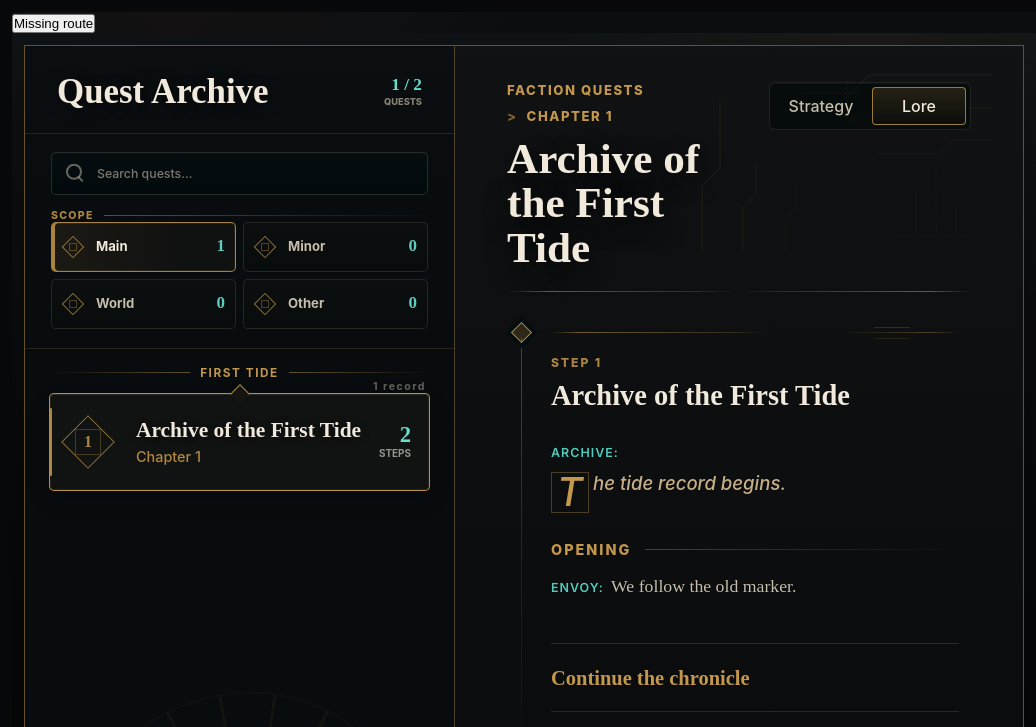
QuestExplorerPage route and deep-link hydration › clears the selected entry when navigation lands on a missing alias
expect the heading "Archive of the First Tide" is shown: met, box [507,135,699,271]
Click the button "Missing route" at (54, 24), box [12,14,95,33]
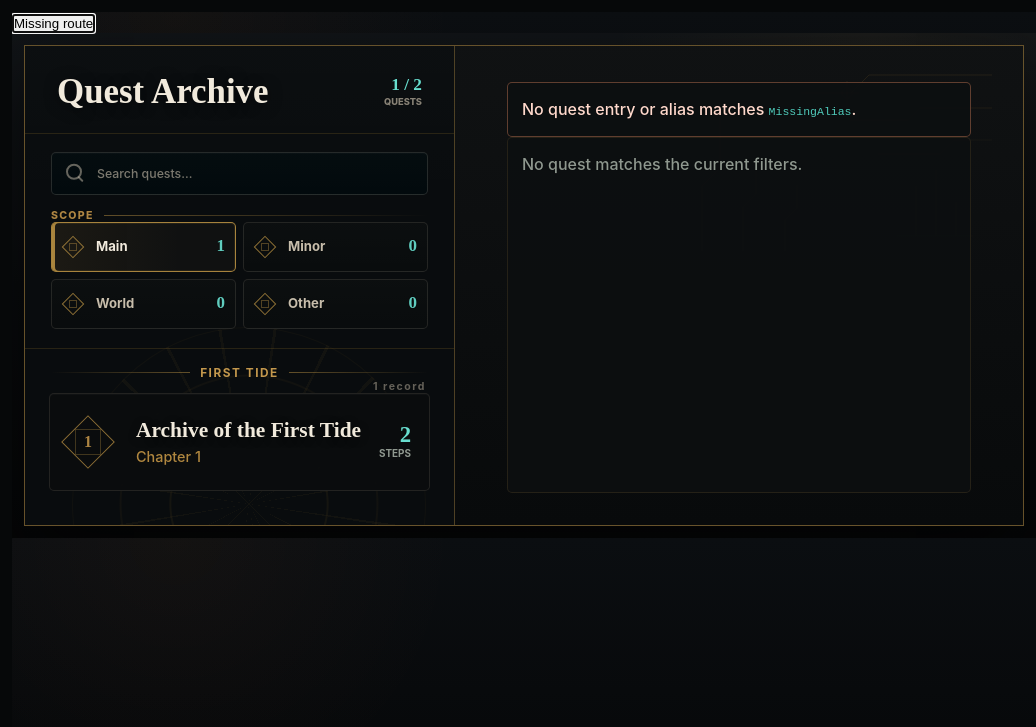
expect the text "No quest entry or alias matches MissingAlias." is shown: met, box [507,82,971,137]
